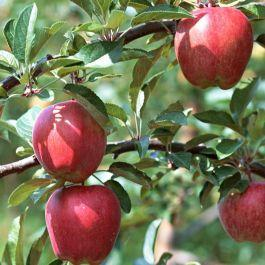apple: (174, 2, 255, 89), (29, 99, 106, 182), (45, 184, 121, 263), (217, 181, 265, 244)
